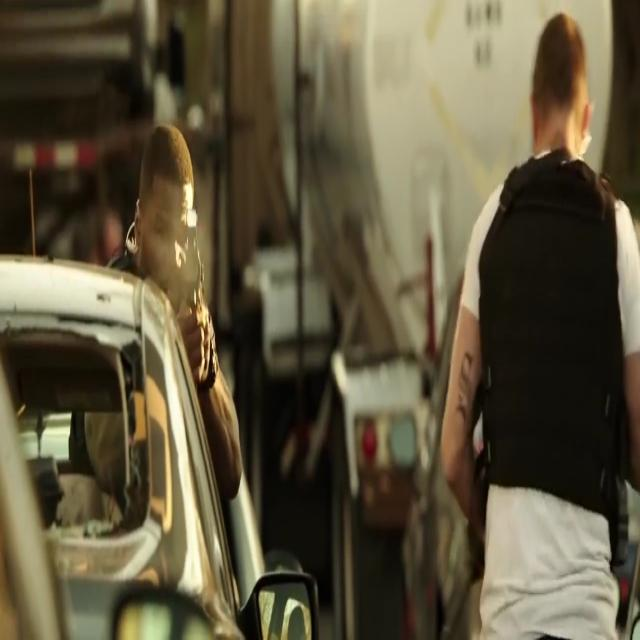Weapon: (152, 212, 212, 354)
